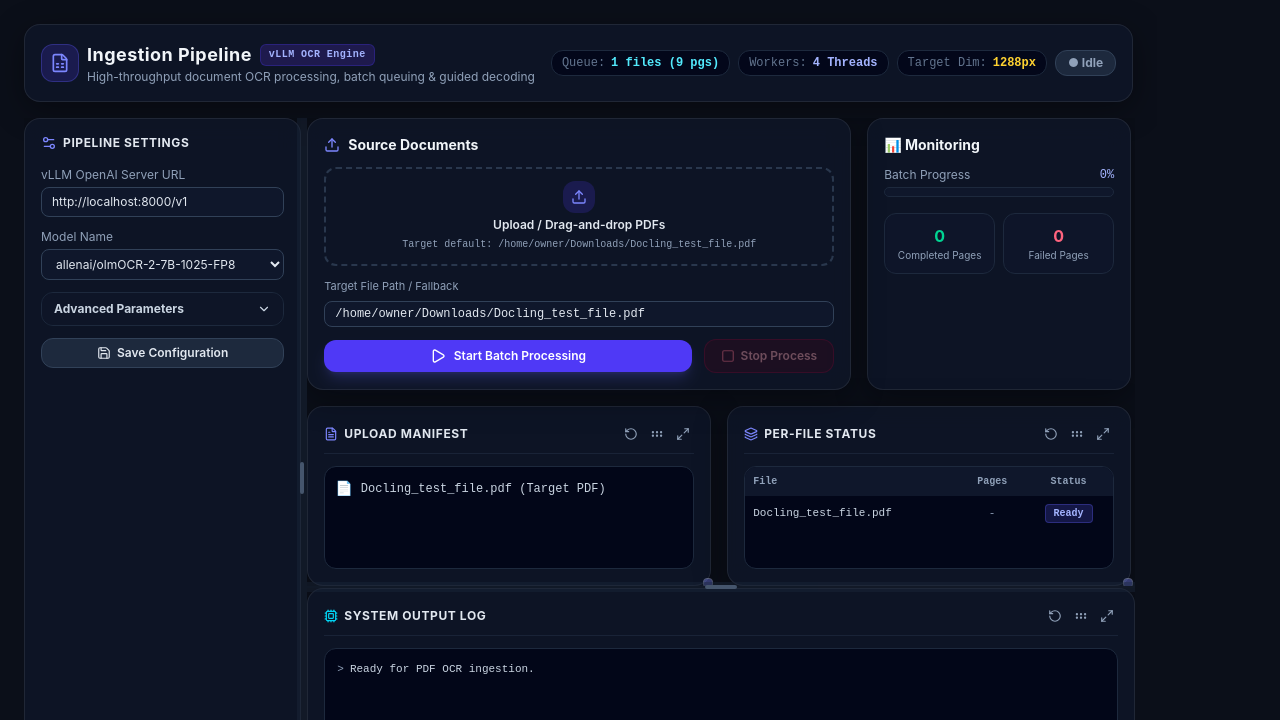
Test case: IngestionPipeline Component › preserves a pre-flight failure when the SSE stream closes
Click the button "Start Batch Processing" at (508, 356), box [324,340,692,372]
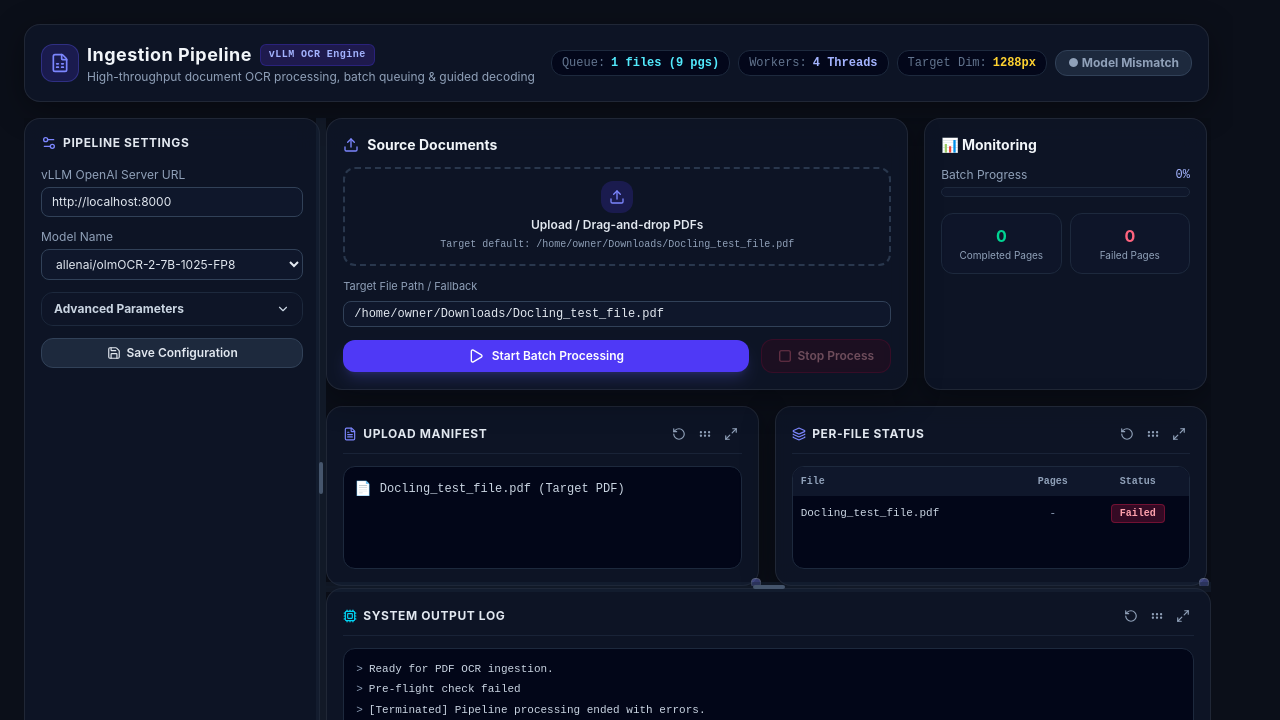
expect the text "● Model Mismatch" is shown: met, box [1055,50,1192,76]
expect the text "[Terminated] Pipeline processing ended with errors." is shown: met, box [369,702,706,718]
expect the text "Failed" is shown: met, box [1111,504,1165,523]
